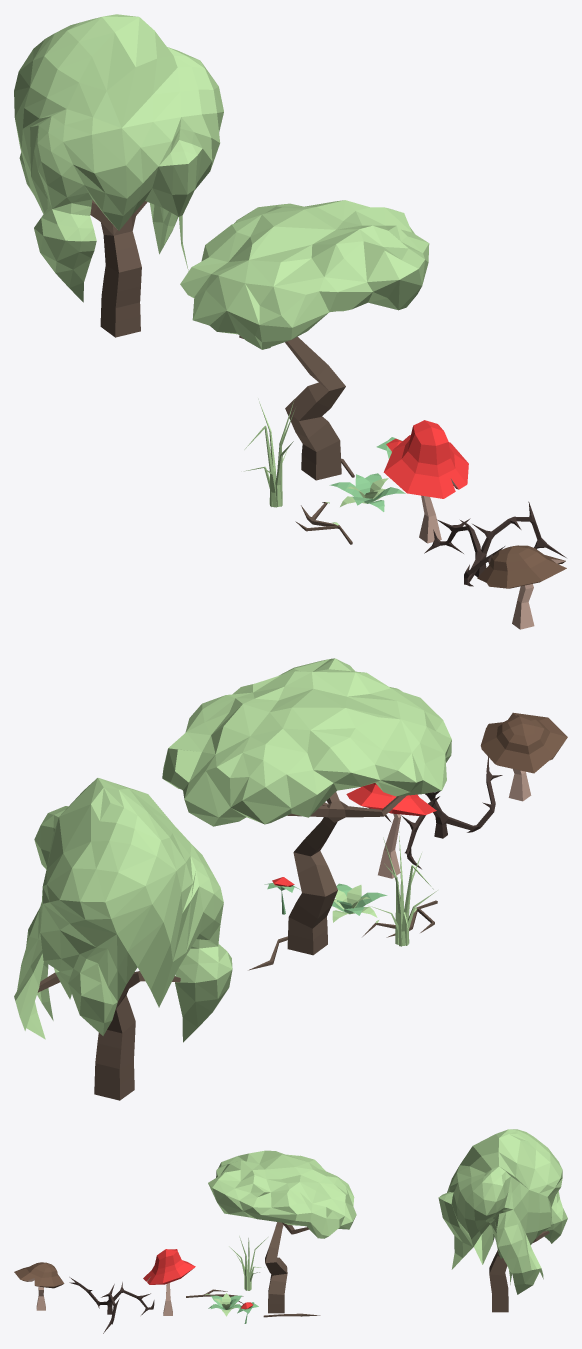
The model's file is BotanySet.fbx.
3 renders of one model, top to bottom at view 1: azimuth 30°, elevation 25°; view 2: azimuth 150°, elevation 25°; view 3: azimuth 270°, elevation 25°, orthographic. The views are drawn at different scales.
Parts seen in each view (by area): view 1: WillowLOD0, AcaciaLOD0, ShroomRedLOD0, ShroomGreyLOD0, ThornLOD0, Bush1LOD0, GrassALOD0; view 2: WillowLOD0, AcaciaLOD0, ShroomGreyLOD0, ShroomRedLOD0, ThornLOD0, GrassALOD0, Bush1LOD0; view 3: WillowLOD0, AcaciaLOD0, ShroomRedLOD0, ShroomGreyLOD0, ThornLOD0, GrassALOD0, Bush1LOD0.
Boxes of the visible parts, x1=… form: WillowLOD0: x1=14, y1=14, x2=223, y2=337; AcaciaLOD0: x1=180, y1=200, x2=429, y2=480; ShroomRedLOD0: x1=383, y1=420, x2=468, y2=543; ShroomGreyLOD0: x1=477, y1=545, x2=566, y2=629; ThornLOD0: x1=424, y1=501, x2=566, y2=586; Bush1LOD0: x1=329, y1=473, x2=405, y2=511; GrassALOD0: x1=244, y1=399, x2=295, y2=507; WillowLOD0: x1=14, y1=778, x2=232, y2=1100; AcaciaLOD0: x1=162, y1=658, x2=451, y2=955; ShroomGreyLOD0: x1=480, y1=712, x2=567, y2=801; ShroomRedLOD0: x1=346, y1=783, x2=436, y2=878; ThornLOD0: x1=369, y1=754, x2=502, y2=869; GrassALOD0: x1=370, y1=831, x2=437, y2=946; Bush1LOD0: x1=332, y1=883, x2=387, y2=922; WillowLOD0: x1=438, y1=1129, x2=567, y2=1312; AcaciaLOD0: x1=208, y1=1150, x2=356, y2=1313; ShroomRedLOD0: x1=143, y1=1249, x2=195, y2=1315; ShroomGreyLOD0: x1=14, y1=1262, x2=64, y2=1310; ThornLOD0: x1=69, y1=1277, x2=154, y2=1333; GrassALOD0: x1=229, y1=1236, x2=267, y2=1290; Bush1LOD0: x1=208, y1=1293, x2=241, y2=1316.
Size of what is drawn, in the model's own units: 6.23 by 7.95 by 22.33.
